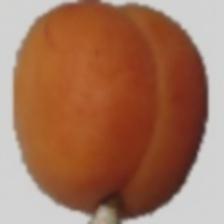apricot: (38, 15, 181, 188)
